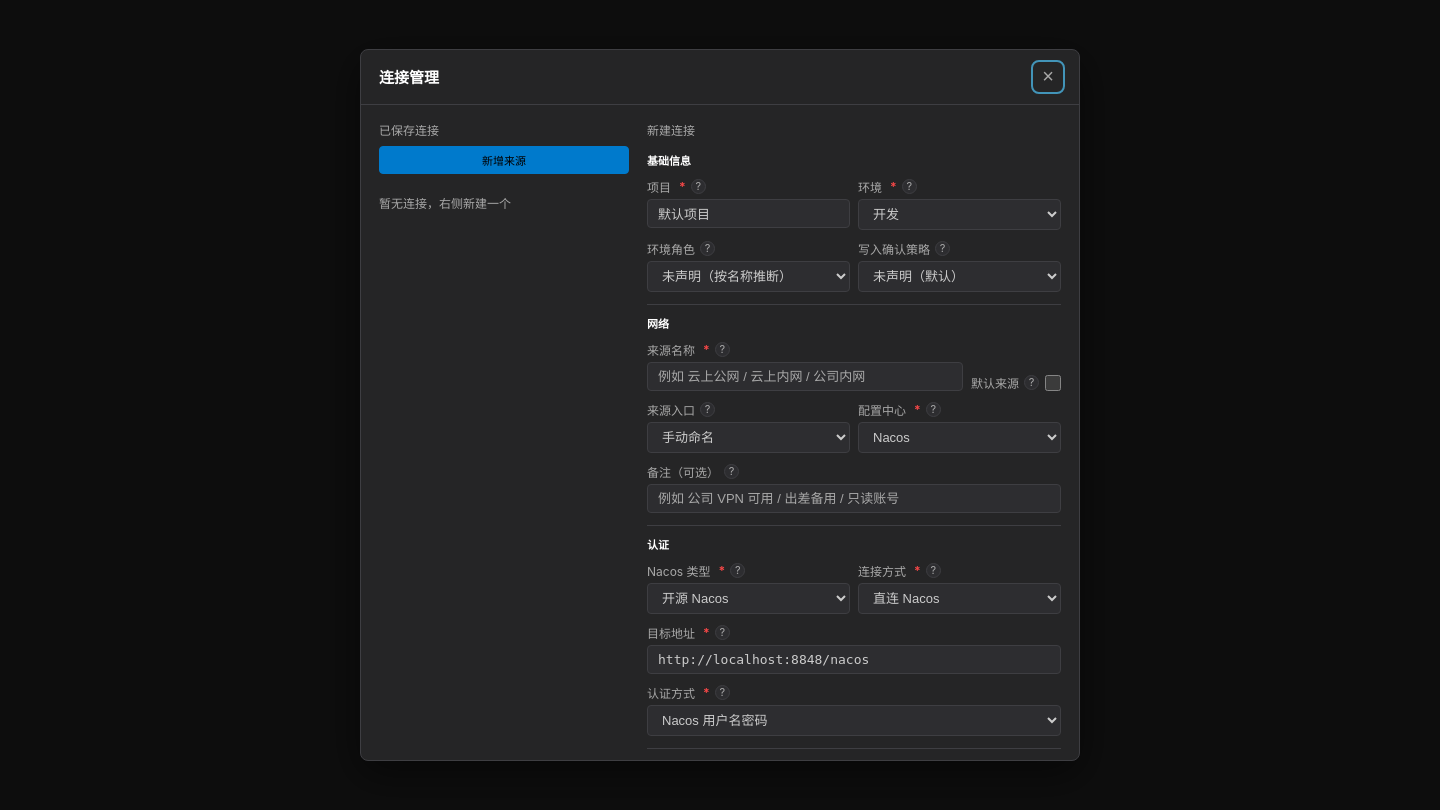
Test: ConnectionManager › defaults the source entry to local snapshot for local snapshot sources
Select "本地快照目录" in the dropdown labelled "配置中心" at (960, 437), box left=858, top=422, right=1061, bottom=453
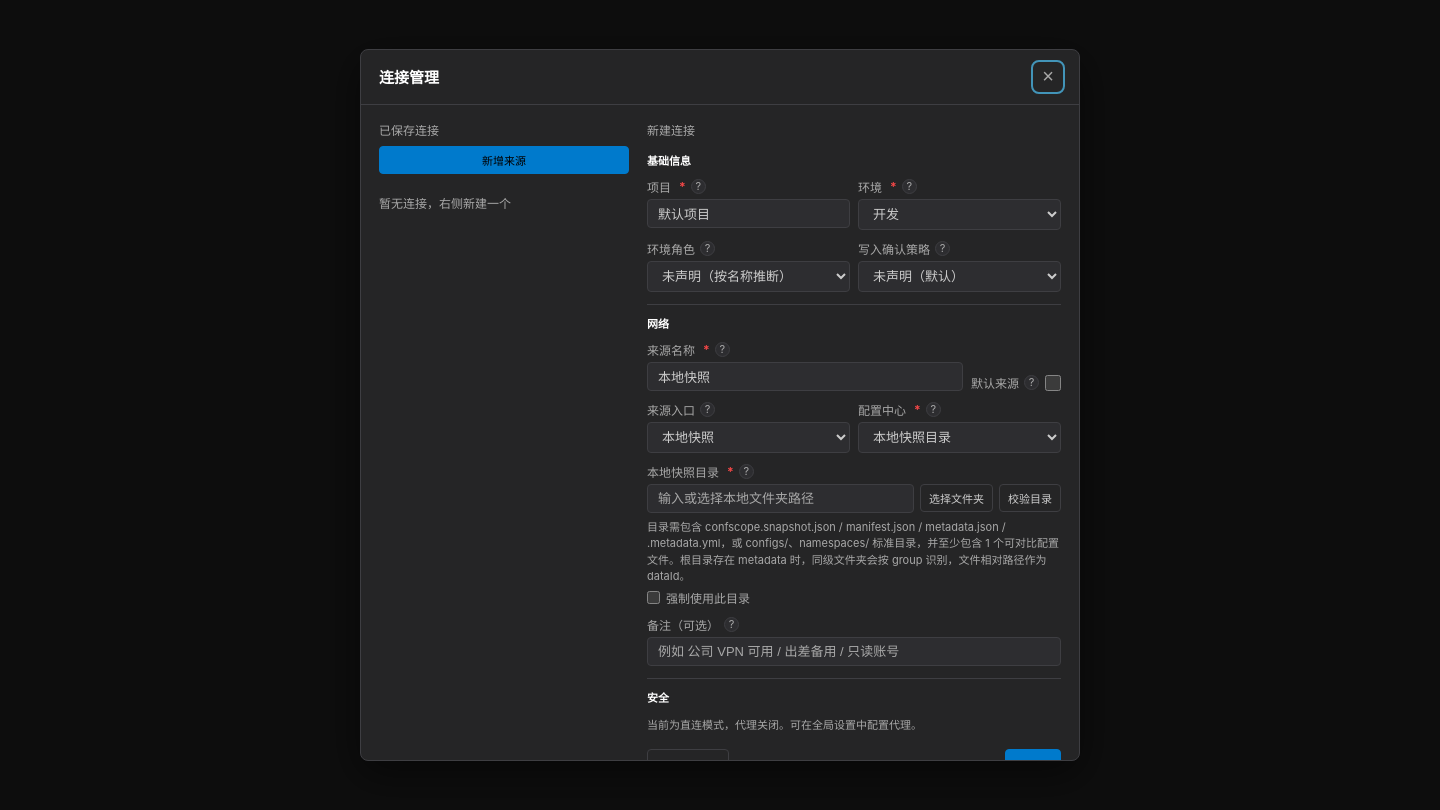
Check: the option "云上公网" is not shown
Check: the field labelled "来源名称 * ?" holds "本地快照", box left=647, top=362, right=963, bottom=391
Check: the dropdown labelled "来源入口" shows "本地快照", box left=647, top=422, right=850, bottom=453
